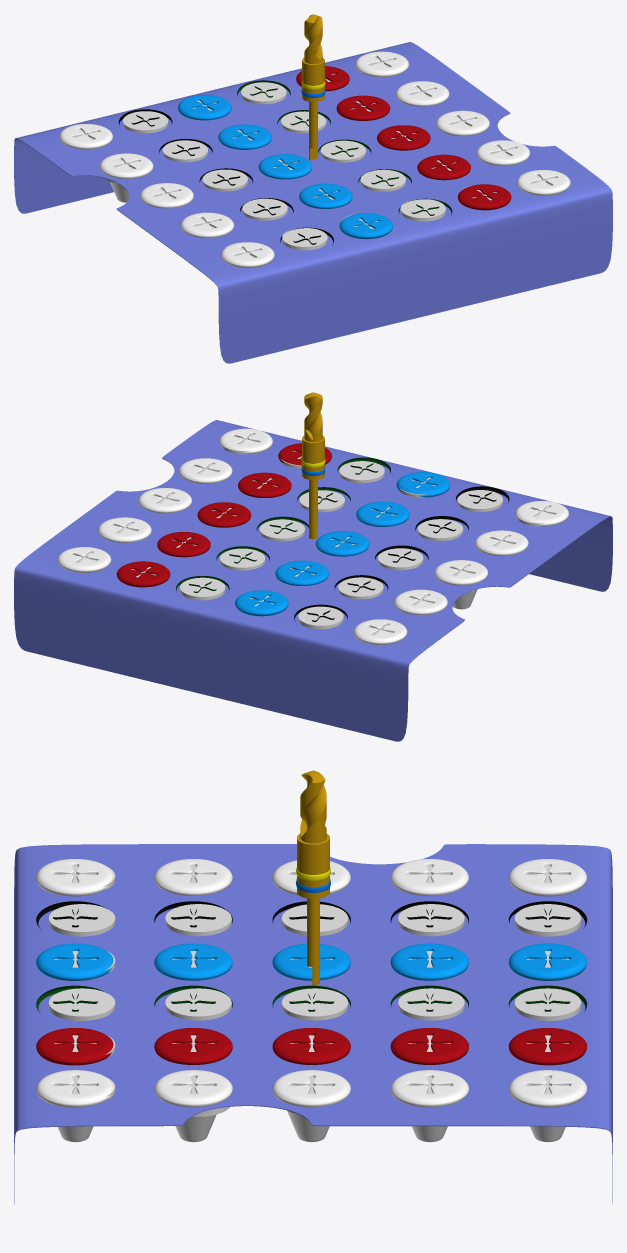
3 renders of one model, top to bottom at view 1: azimuth 30°, elevation 25°; view 2: azimuth 150°, elevation 25°; view 3: azimuth 270°, elevation 25°, orthographic. The views are drawn at different scales.
Visible parts, largest first — view 1: Plane, Cylinder.002, Slot.002, Cube, Slot.025, Slot.030, Slot.005, Slot.015, Slot.027, Slot.026, Slot.003, Slot.014 (+12 smaller); view 2: Plane, Cylinder.002, Slot.003, Cube, Slot.021, Slot.011, Slot.001, Slot.026, Slot.023, Slot.029, Slot.013, Slot.014 (+12 smaller); view 3: Plane, Cylinder.002, Slot.029, Slot.028, Cube, Slot.026, Slot.027, Slot.030, Slot.011, Slot.001, Slot.021, Slot.014 (+12 smaller).
Part boxes in pixels (<box>): Plane: <box>14,42,612,363</box>; Cylinder.002: <box>73,57,555,257</box>; Slot.002: <box>99,153,153,202</box>; Cube: <box>302,14,324,85</box>; Slot.025: <box>457,184,511,210</box>; Slot.030: <box>517,170,570,195</box>; Slot.005: <box>221,242,274,267</box>; Slot.015: <box>339,213,392,239</box>; Slot.027: <box>395,81,449,106</box>; Slot.026: <box>355,51,408,76</box>; Slot.003: <box>140,183,193,208</box>; Slot.014: <box>299,183,352,208</box>; Plane: <box>14,420,612,741</box>; Cylinder.002: <box>72,434,554,634</box>; Slot.003: <box>434,560,487,609</box>; Cube: <box>302,392,324,463</box>; Slot.021: <box>116,561,170,587</box>; Slot.011: <box>235,590,288,616</box>; Slot.001: <box>353,619,407,644</box>; Slot.026: <box>57,547,111,572</box>; Slot.023: <box>197,502,251,527</box>; Slot.029: <box>179,458,232,483</box>; Slot.013: <box>316,531,369,556</box>; Slot.014: <box>356,501,409,526</box>; Plane: <box>14,844,612,1204</box>; Cylinder.002: <box>48,866,581,1116</box>; Slot.029: <box>154,1070,232,1142</box>; Slot.028: <box>272,1070,350,1142</box>; Cube: <box>297,770,329,874</box>; Slot.026: <box>508,1070,587,1142</box>; Slot.027: <box>390,1070,468,1142</box>; Slot.030: <box>36,1070,113,1142</box>; Slot.011: <box>508,943,586,980</box>; Slot.001: <box>508,859,586,896</box>; Slot.021: <box>508,1028,587,1065</box>; Slot.014: <box>154,943,232,980</box>.
Bounding box in the file's own units: 0.1 × 0.0556 × 0.09.
